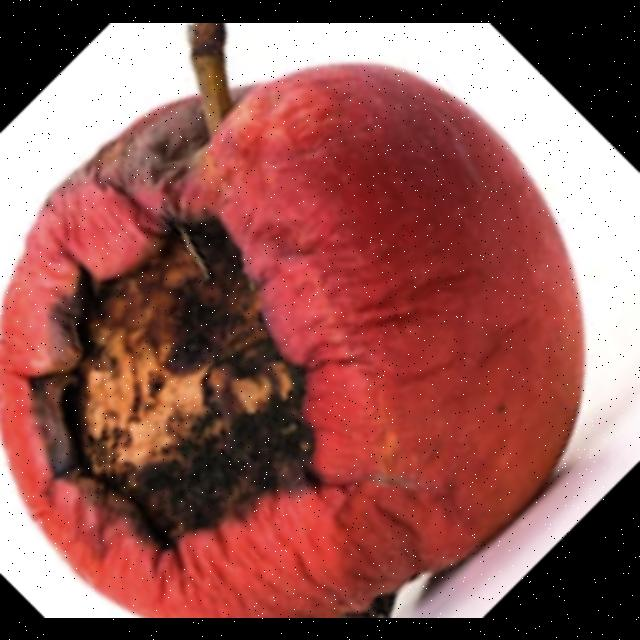Apel Tidak Segar: (1, 67, 582, 618)
